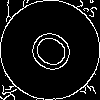O: (25, 25, 85, 83)
